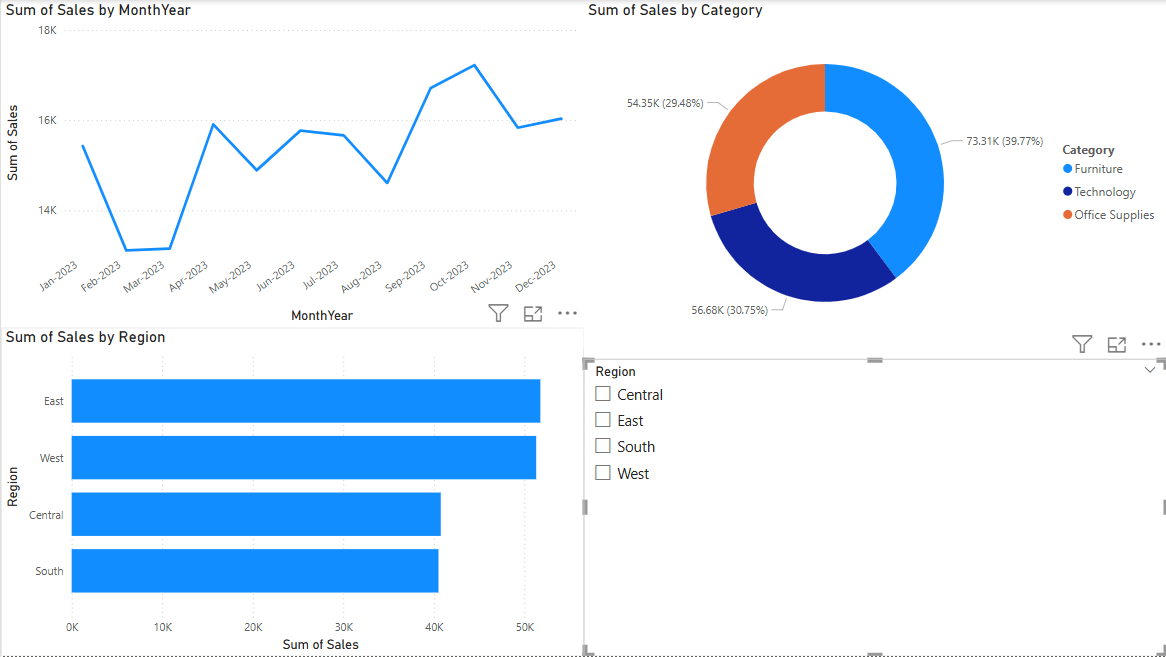

The dashboard page shown, as its layout file describes it:
{"tool":"powerbi","page":{"name":"Page 1","canvas":[1280,720],"ordinal":0},"visuals":[{"type":"lineChart","fields":{"Category":["Superstore_Sales.MonthYear"],"Y":["Sum(Superstore_Sales.Sales)"]},"box":[0,0,639.5,359.5],"z":0},{"type":"clusteredBarChart","fields":{"Category":["Superstore_Sales.Region"],"Y":["Sum(Superstore_Sales.Sales)"]},"box":[0,359.5,639.5,360.9],"z":1000},{"type":"donutChart","fields":{"Category":["Superstore_Sales.Category"],"Y":["Sum(Superstore_Sales.Sales)"]},"box":[639.5,0,640.8,382.8],"z":2000},{"type":"slicer","fields":{"Values":["Superstore_Sales.Region"]},"box":[639.5,393.8,640.8,326.6],"z":2001}]}

Visuals, with their boxes in screenshot pixels (x1, y1, x2, y2), scaled from the page's 1280x720 canvas onto the 1166x657 screenshot:
lineChart - Superstore_Sales.MonthYear x Sum(Superstore_Sales.Sales): bbox(0, 0, 583, 328)
clusteredBarChart - Superstore_Sales.Region x Sum(Superstore_Sales.Sales): bbox(0, 328, 583, 656)
donutChart - Superstore_Sales.Category x Sum(Superstore_Sales.Sales): bbox(583, 0, 1165, 349)
slicer - Superstore_Sales.Region: bbox(583, 359, 1165, 656)
